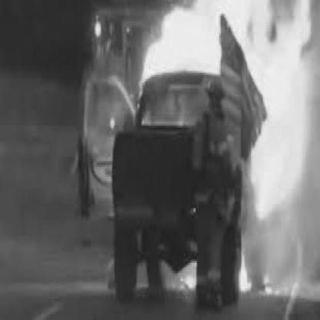Fire: (144, 4, 312, 217), (236, 251, 254, 295)
